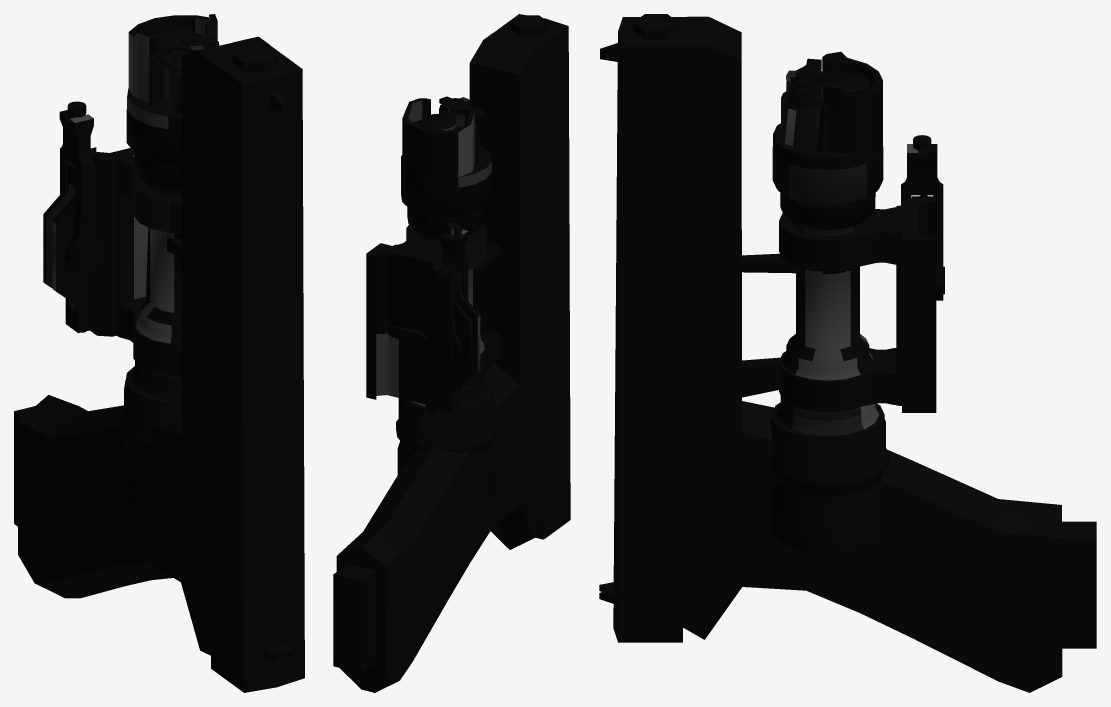
The model's file is Glock19__Light_Weapon.fbx.
The picture shows the model from 3 angles, left to right: view 1: azimuth 30°, elevation 25°; view 2: azimuth 150°, elevation 25°; view 3: azimuth 270°, elevation 25°; orthographic projection. The views are drawn at different scales.
Parts seen in each view (by area): view 1: asset_Glock19.001; view 2: asset_Glock19.001; view 3: asset_Glock19.001.
Boxes of the visible parts, bbox=[...] form: asset_Glock19.001: bbox=[14, 14, 304, 692]; asset_Glock19.001: bbox=[333, 14, 570, 692]; asset_Glock19.001: bbox=[599, 14, 1096, 692].
Size of the model in its own units: 0.0229 by 0.108 by 0.0726.
